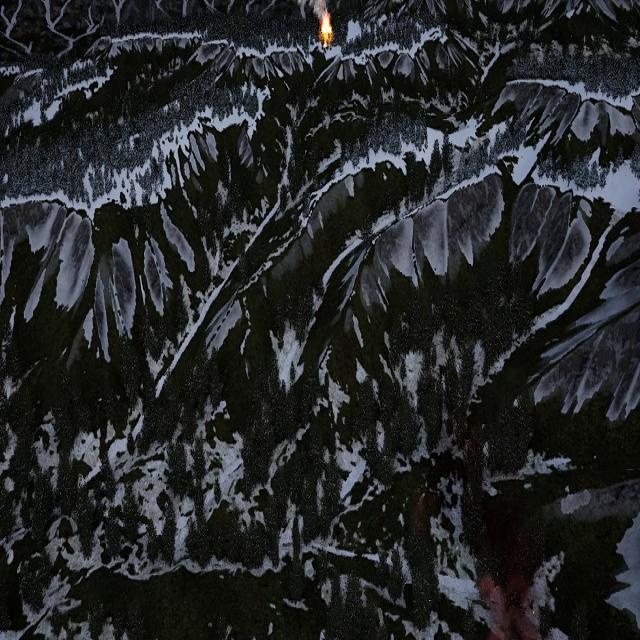fire: (321, 14, 332, 42)
smoke: (309, 0, 329, 19)
